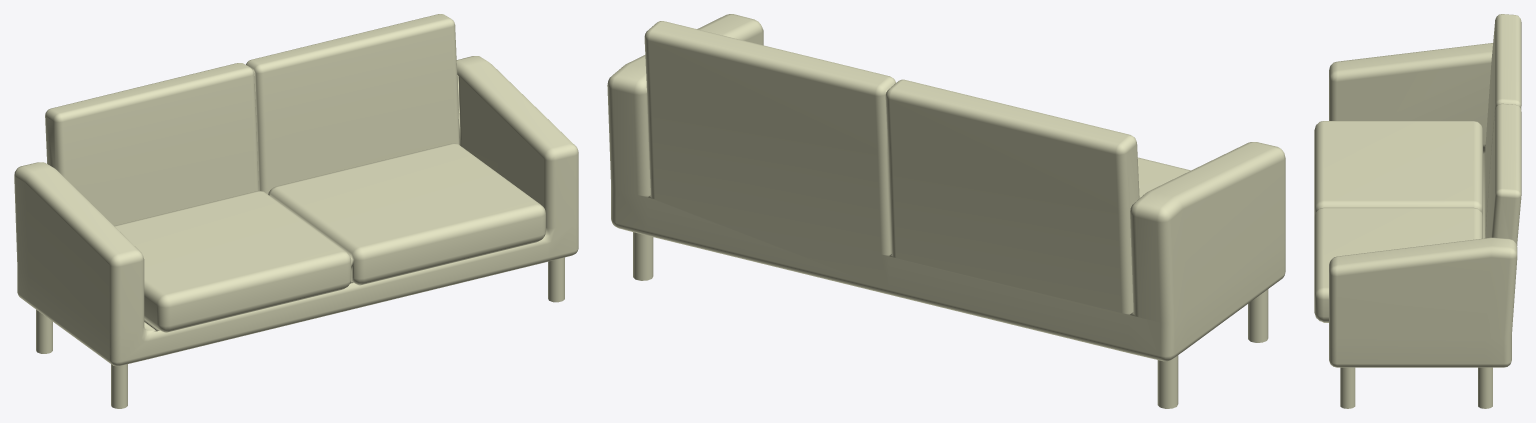
Rendered from sofa.fbx.
3 renders of one model, left to right at view 1: azimuth 30°, elevation 25°; view 2: azimuth 150°, elevation 25°; view 3: azimuth 270°, elevation 25°, orthographic. The views are drawn at different scales.
Visible parts, largest first — view 1: pCube2; view 2: pCube2; view 3: pCube2.
Boxes of the visible parts, left/top/right/bottom form: pCube2: left=14, top=14, right=578, bottom=408; pCube2: left=607, top=14, right=1285, bottom=408; pCube2: left=1314, top=14, right=1521, bottom=408.
Bounding box in the file's own units: 13.93 × 6.39 × 5.82.
1 material, 1 textured.
